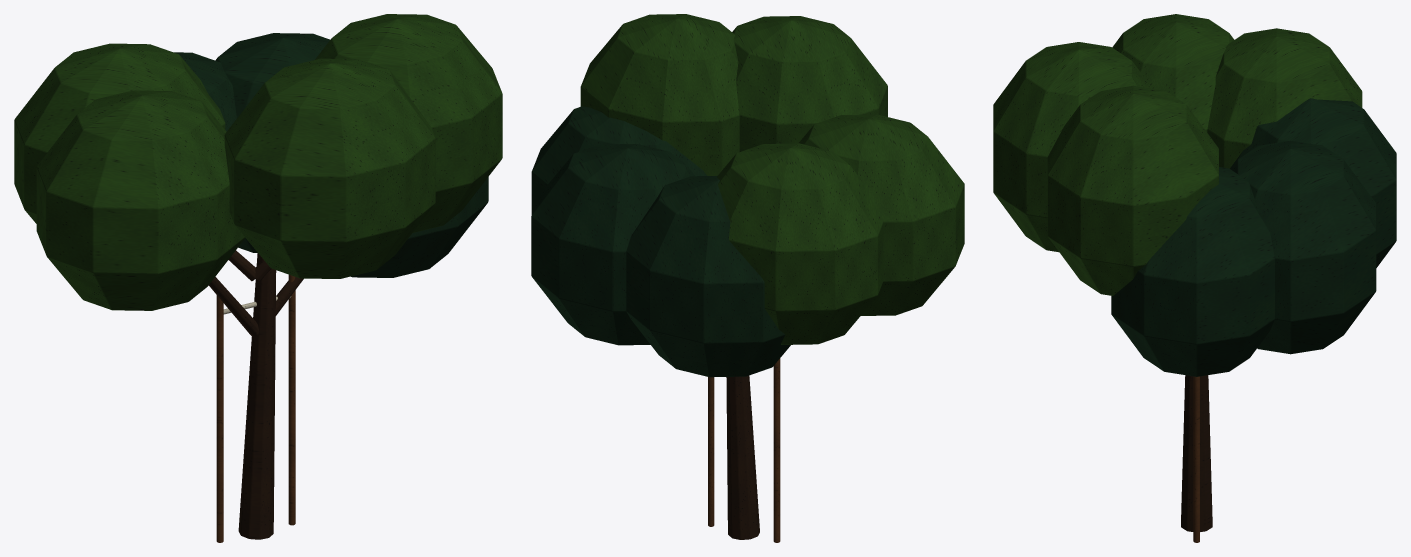
File: PROP-5451E45E3B44_lod1.glb
3 renders of one model, left to right at view 1: azimuth 30°, elevation 25°; view 2: azimuth 150°, elevation 25°; view 3: azimuth 270°, elevation 25°, orthographic. The views are drawn at different scales.
Visible parts, largest first — view 1: leaf_crown.017, leaf_crown.016, trunk.030, support_stake.002, branch.012; view 2: leaf_crown.017, leaf_crown.016, trunk.030, support_stake.002; view 3: leaf_crown.017, leaf_crown.016, trunk.030, support_stake.002.
Part boxes in pixels (left/top/right/bottom): leaf_crown.017: left=14, top=14, right=502, bottom=310; leaf_crown.016: left=174, top=33, right=488, bottom=277; trunk.030: left=238, top=253, right=276, bottom=539; support_stake.002: left=216, top=274, right=295, bottom=542; branch.012: left=208, top=250, right=303, bottom=336; leaf_crown.017: left=580, top=14, right=964, bottom=344; leaf_crown.016: left=531, top=106, right=790, bottom=377; trunk.030: left=726, top=375, right=759, bottom=539; support_stake.002: left=708, top=358, right=780, bottom=542; leaf_crown.017: left=993, top=14, right=1362, bottom=295; leaf_crown.016: left=1111, top=98, right=1396, bottom=376; trunk.030: left=1181, top=375, right=1212, bottom=531; support_stake.002: left=1193, top=376, right=1199, bottom=542.
Size of the model in its own units: 3.44 by 3.81 by 2.9.
Materials: 5 (5 with a texture image).
